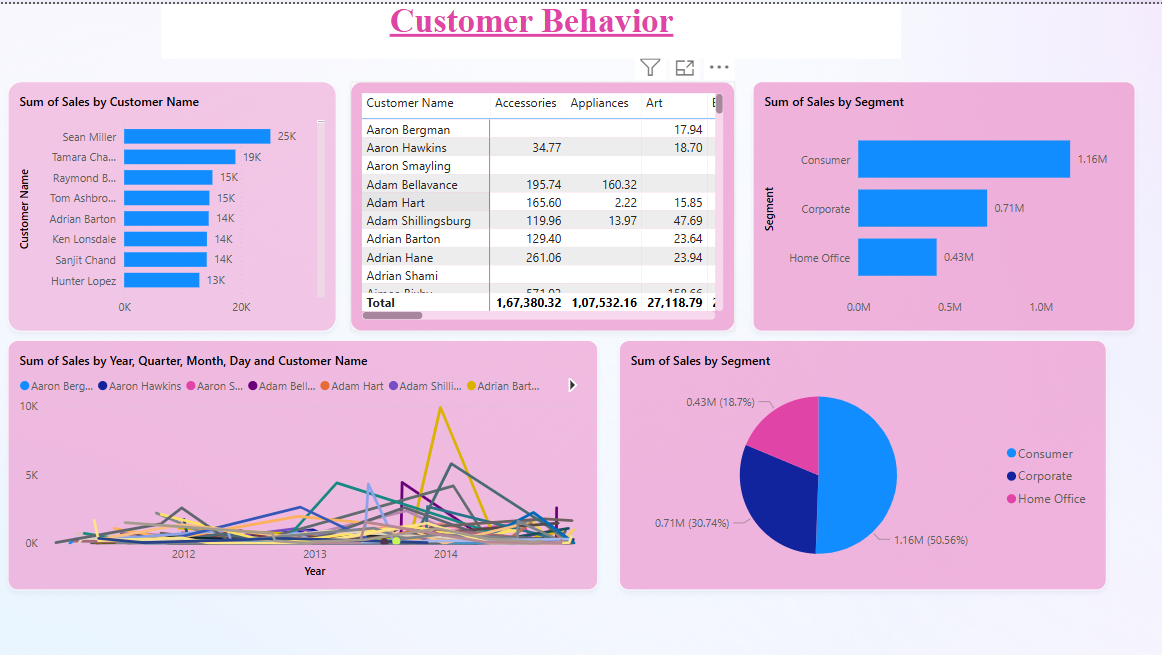

What the dashboard file says about the page in this screenshot:
{"tool":"powerbi","page":{"name":"Customer Behavior","canvas":[1280,720],"ordinal":1},"visuals":[{"type":"barChart","fields":{"Y":["Orders.Sales"],"Category":["Orders.Customer Name"]},"box":[9.6,85.1,360.9,274.4],"z":0},{"type":"lineChart","fields":{"Series":["Orders.Customer Name"],"Y":["Orders.Sales"],"Category":["Orders.Order Date.Variation.Date Hierarchy.Year","Orders.Order Date.Variation.Date Hierarchy.Quarter","Orders.Order Date.Variation.Date Hierarchy.Month","Orders.Order Date.Variation.Date Hierarchy.Day"]},"box":[9.6,369.1,647.7,274.4],"z":1000},{"type":"pivotTable","fields":{"Rows":["Orders.Customer Name"],"Columns":["Orders.Sub-Category"],"Values":["Orders.Sales"]},"box":[385.6,85.1,422.6,274.4],"z":2000},{"type":"pieChart","fields":{"Category":["Orders.Segment"],"Y":["Orders.Sales"]},"box":[680.6,369.1,535.2,274.4],"z":3000},{"type":"barChart","fields":{"Category":["Orders.Segment"],"Y":["Orders.Sales"]},"box":[827.4,85.1,419.9,274.4],"z":3001},{"type":"textbox","box":[178.4,0,812.4,60.4],"z":3002}]}

Visuals, with their boxes in screenshot pixels (x1, y1, x2, y2), scaled from the page's 1280x720 canvas onto the 1162x655 screenshot:
barChart - Orders.Sales x Orders.Customer Name: x1=9 y1=77 x2=336 y2=327
lineChart - Orders.Customer Name x Orders.Sales: x1=9 y1=336 x2=597 y2=585
pivotTable - Orders.Customer Name x Orders.Sub-Category: x1=350 y1=77 x2=734 y2=327
pieChart - Orders.Segment x Orders.Sales: x1=618 y1=336 x2=1104 y2=585
barChart - Orders.Segment x Orders.Sales: x1=751 y1=77 x2=1132 y2=327
textbox: x1=162 y1=0 x2=899 y2=55
